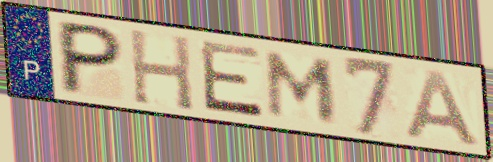7: (340, 53, 398, 139)
A: (402, 66, 485, 150)
E: (196, 38, 266, 121)
H: (126, 26, 197, 114)
M: (265, 48, 339, 125)
P: (57, 18, 126, 97)
